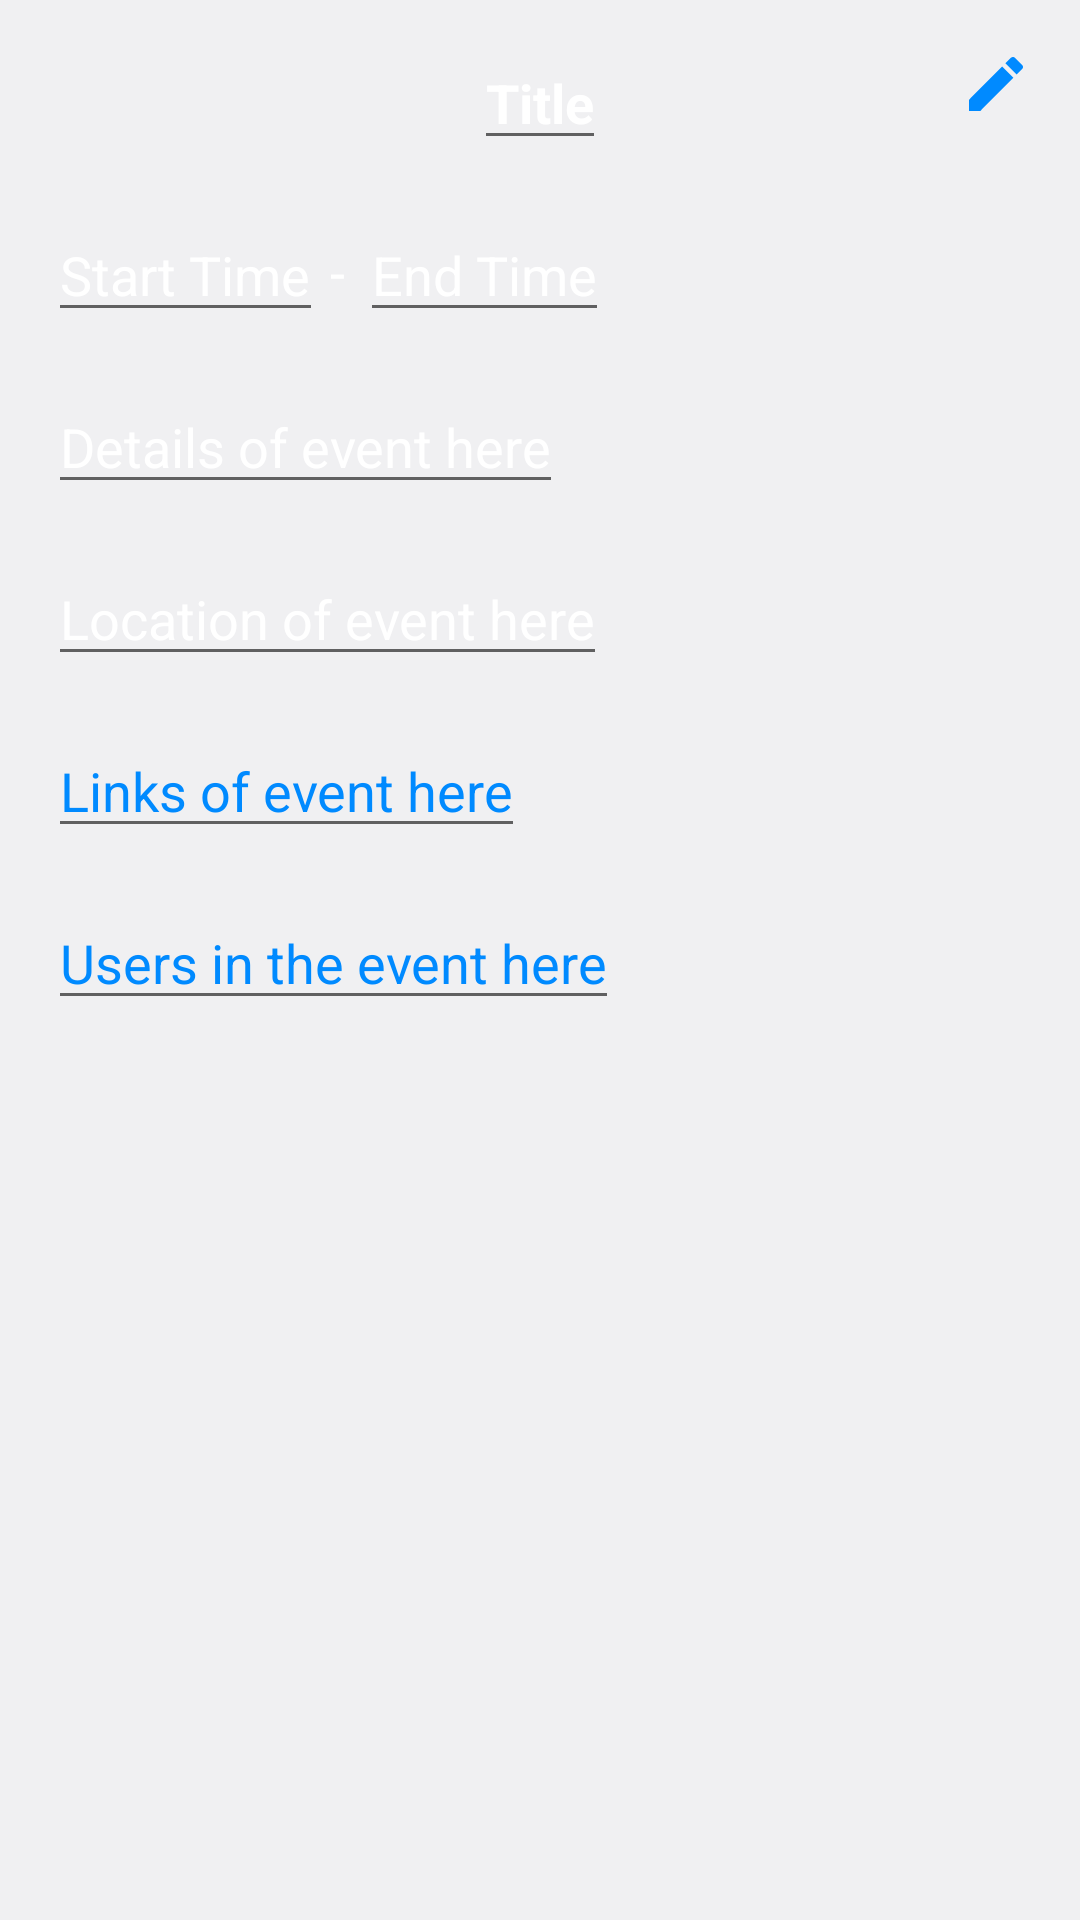

Where icons sit on this 1080px×1920px app screen, as (x1, y1, x2, y2):
edit: (969, 57, 1023, 111)
